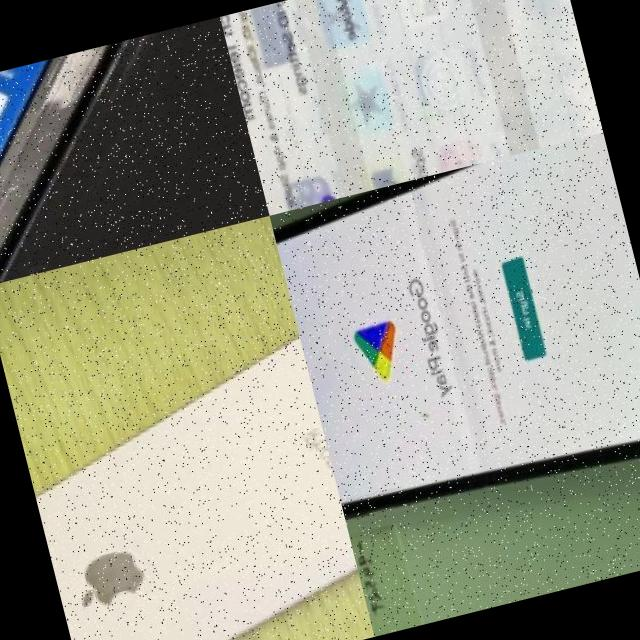dead pixel: (408, 393, 440, 432)
